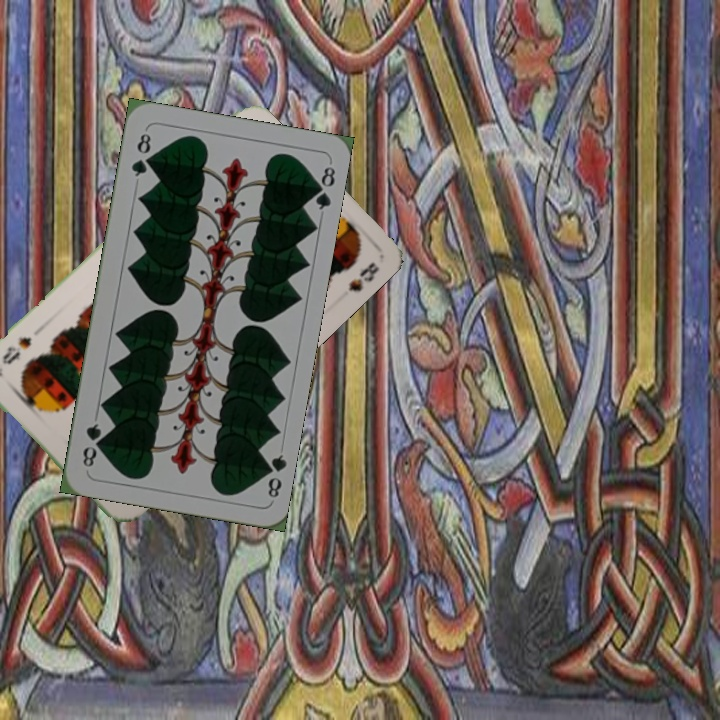G8: (258, 450, 288, 500), (127, 129, 154, 179)
